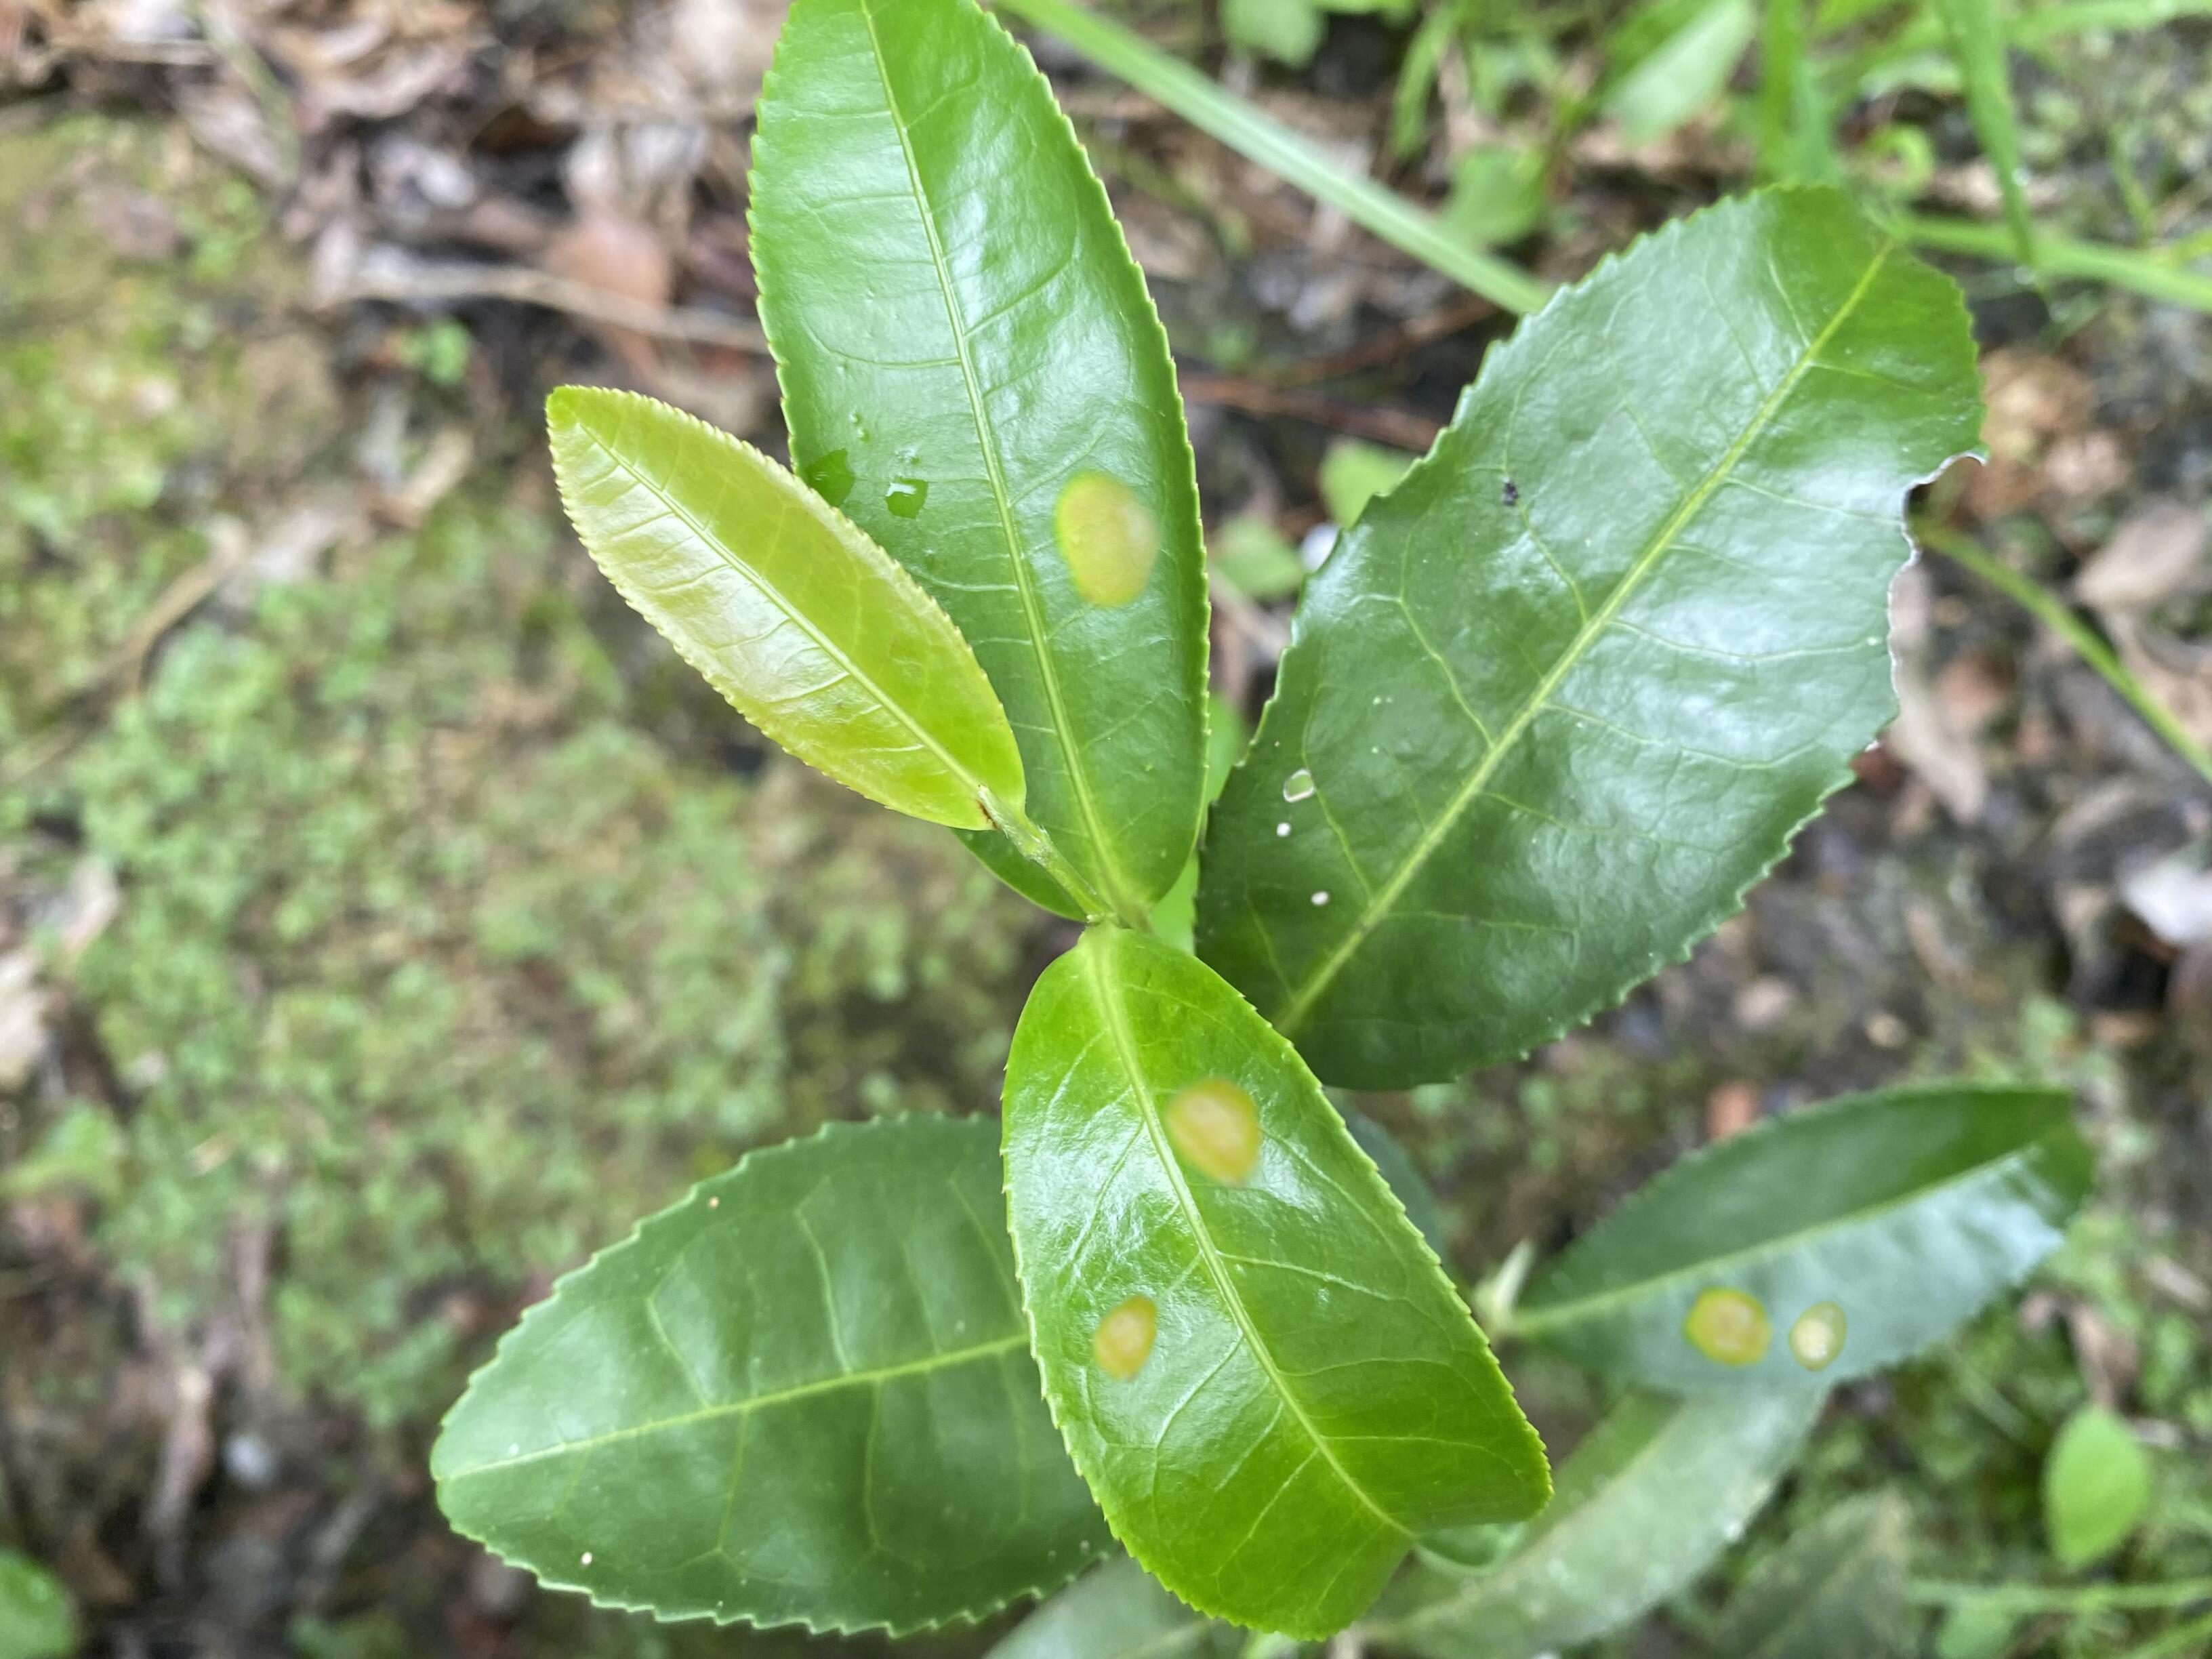chabing_high: (1008, 931, 1557, 1642), (1519, 1080, 2094, 1392)
chabing_low: (752, 7, 1211, 920)
chihuo_high: (1216, 176, 1994, 1098)
healthy: (434, 1108, 1082, 1647), (538, 383, 1026, 831)
